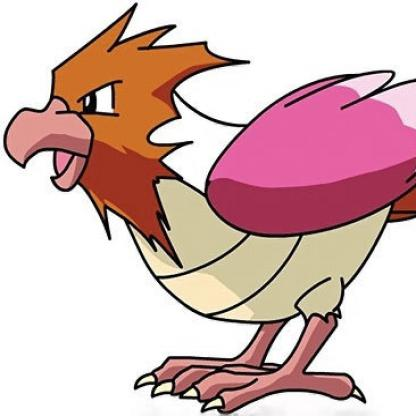Spearow: (9, 3, 416, 407)
